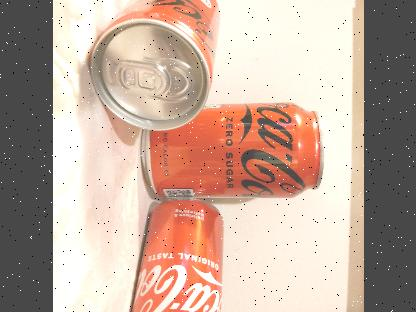Can: (140, 104, 326, 200), (87, 0, 221, 131), (122, 198, 224, 312)
